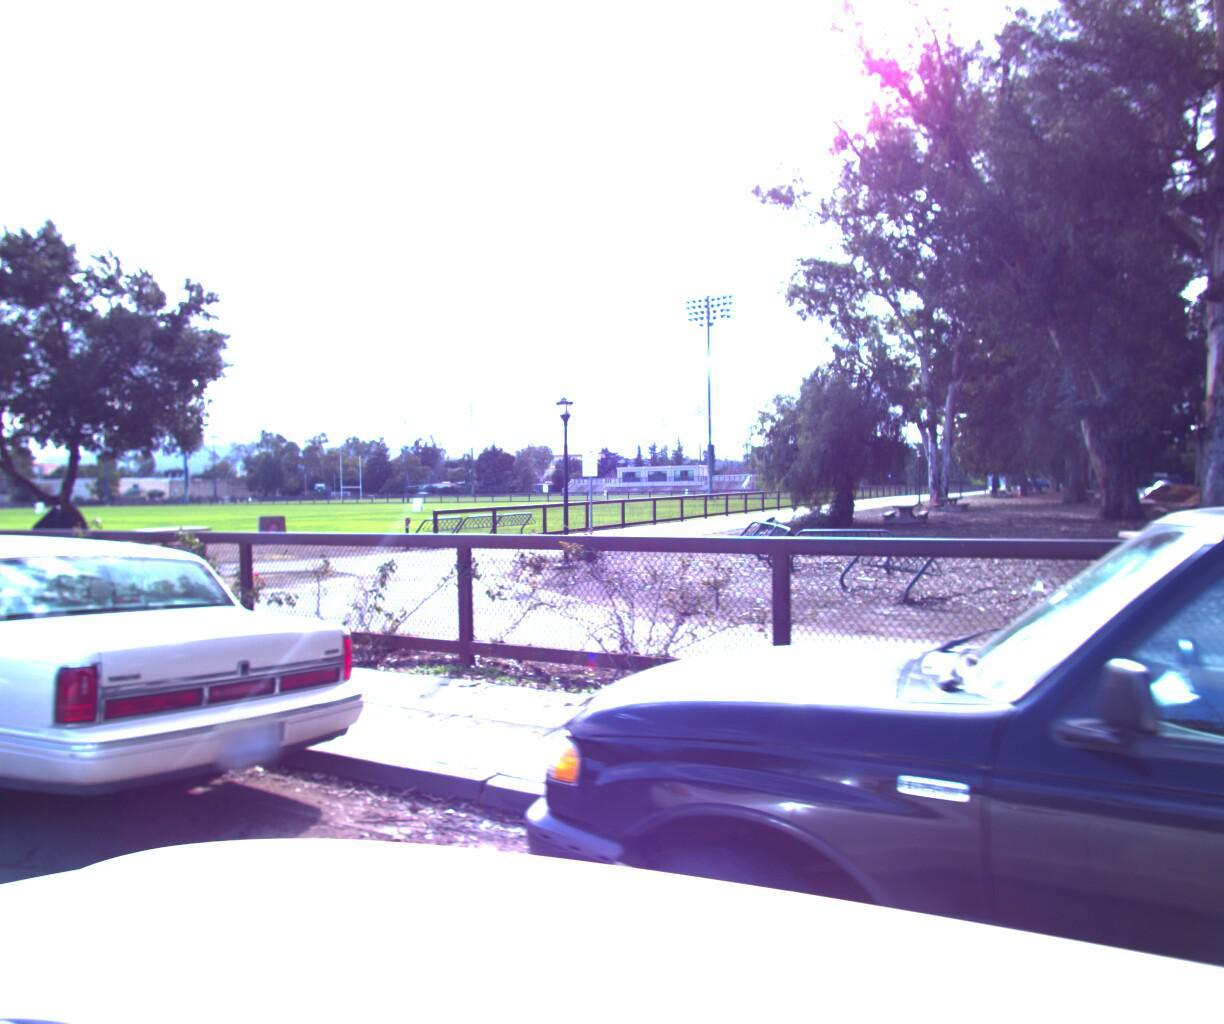car: (436, 0, 1224, 1024), (0, 526, 403, 912)
